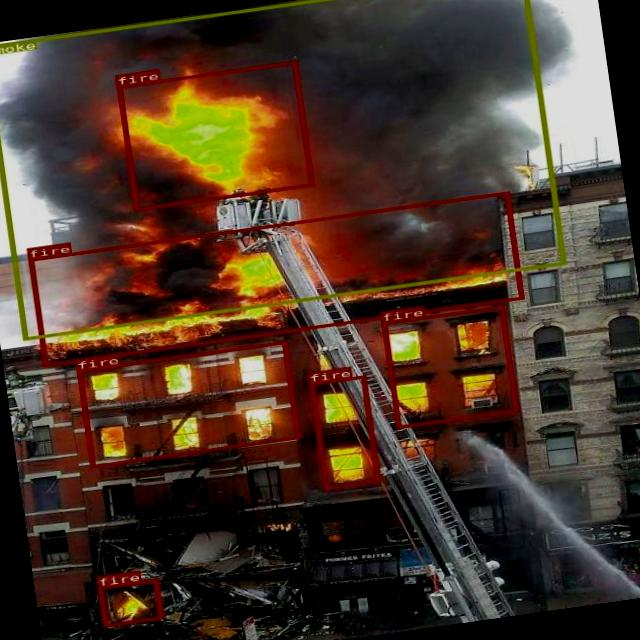fire: (28, 191, 524, 367), (116, 61, 313, 211), (76, 340, 300, 467), (380, 304, 518, 428), (309, 374, 380, 490), (98, 578, 164, 626)
smoke: (0, 0, 565, 340)
